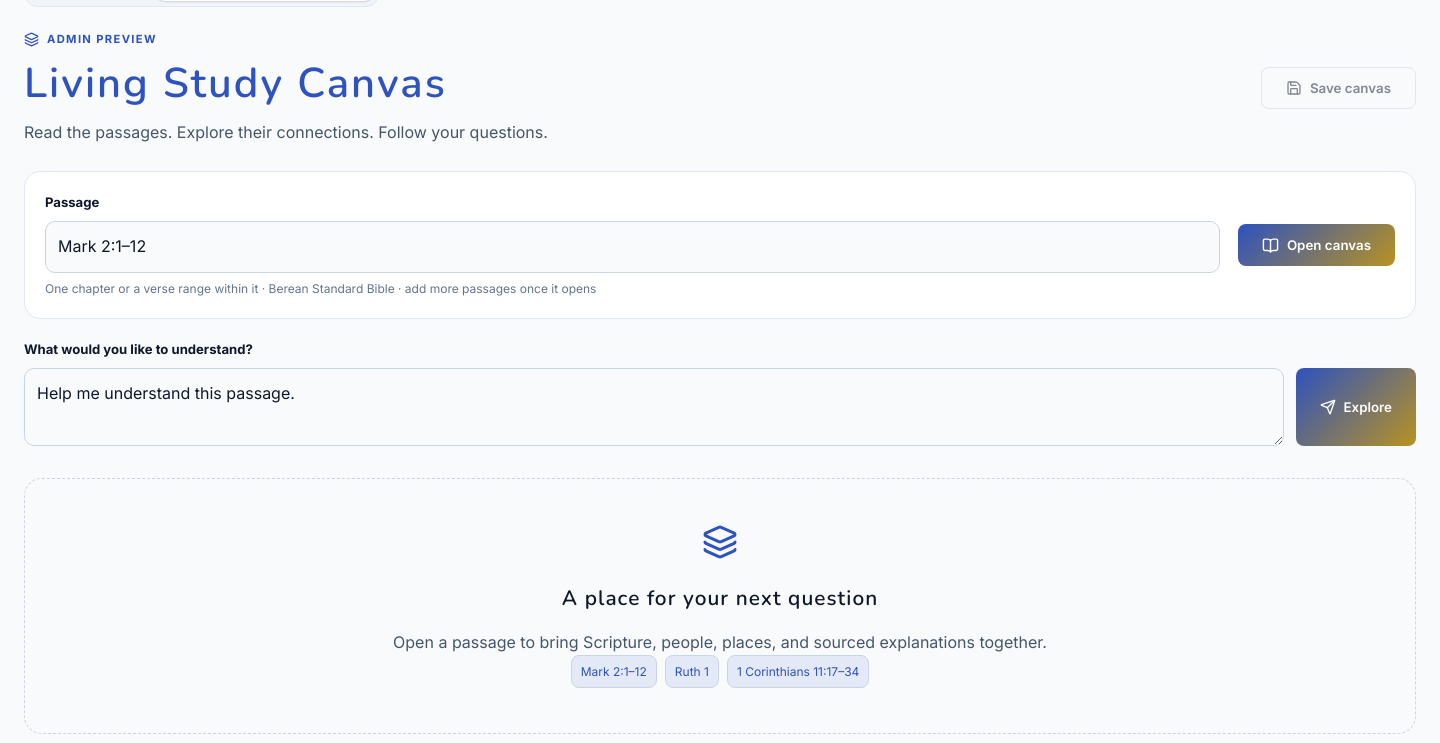
Test: Living Study Canvas › loads sources, links evidence and existing app destinations, and saves/restores a canvas
This screenshot has width=1440, height=743.
Step 1. Click the button "Open canvas" → (1316, 245), box 1238,224 -> 1395,266
(page scrolled)
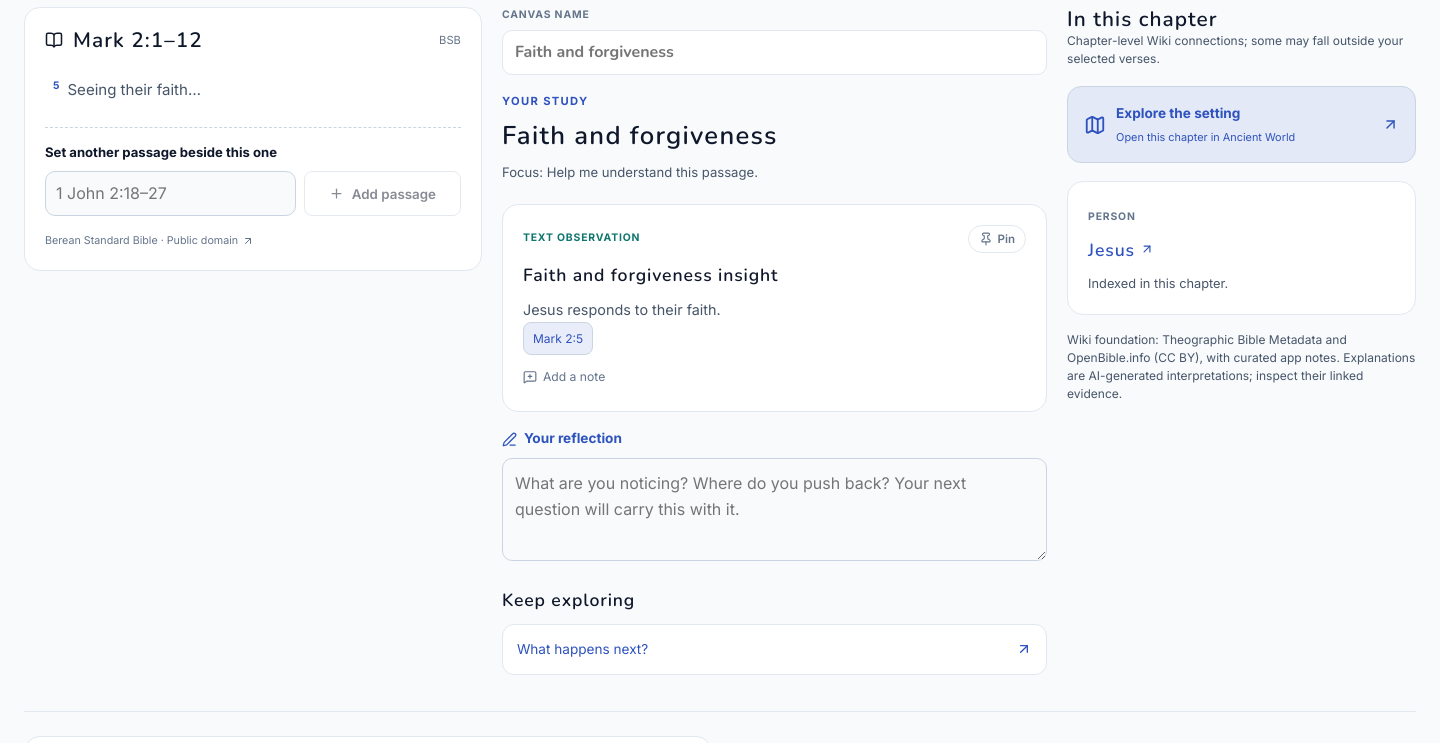
Check: the heading "Faith and forgiveness" is shown, box 502,118 -> 778,153
Step 2. Click the button "Mark 2:5" → (558, 338), box 523,322 -> 593,355
(page scrolled)
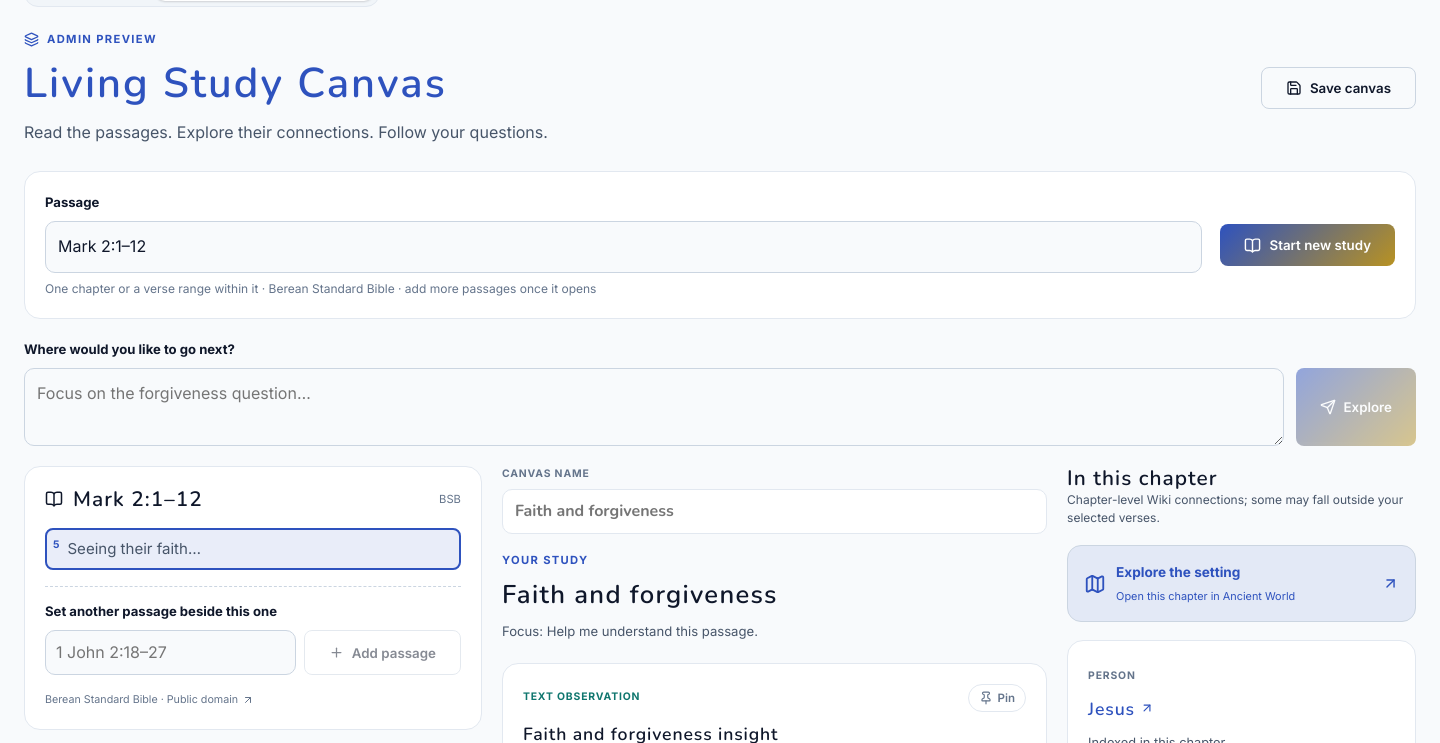
Step 3. Click the button "Save canvas" → (1338, 88), box 1261,67 -> 1416,109
(page scrolled)
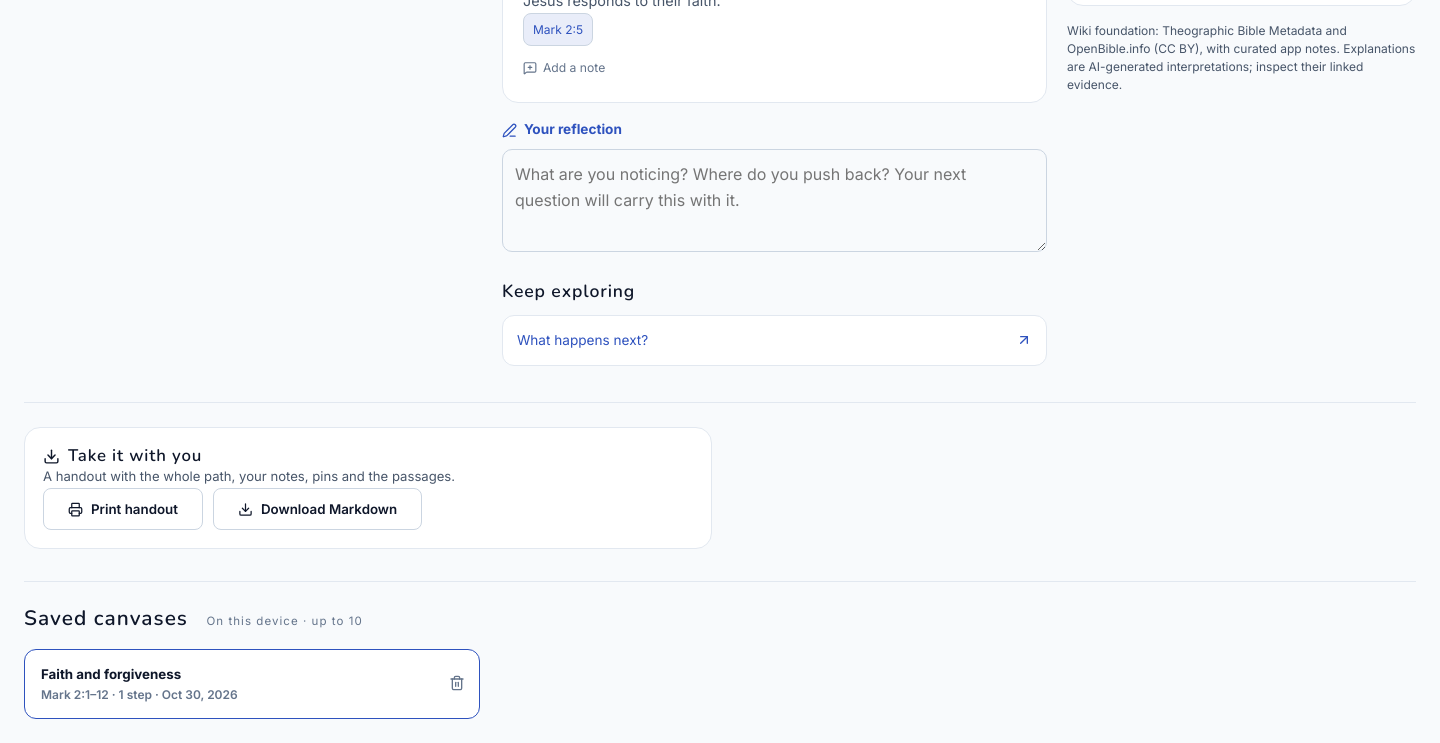
Step 4. Click the button "Faith and forgiveness Mark 2:1–12 · 1 step · Oct 30, 2026" → (230, 684), box 25,650 -> 435,718
(page scrolled)
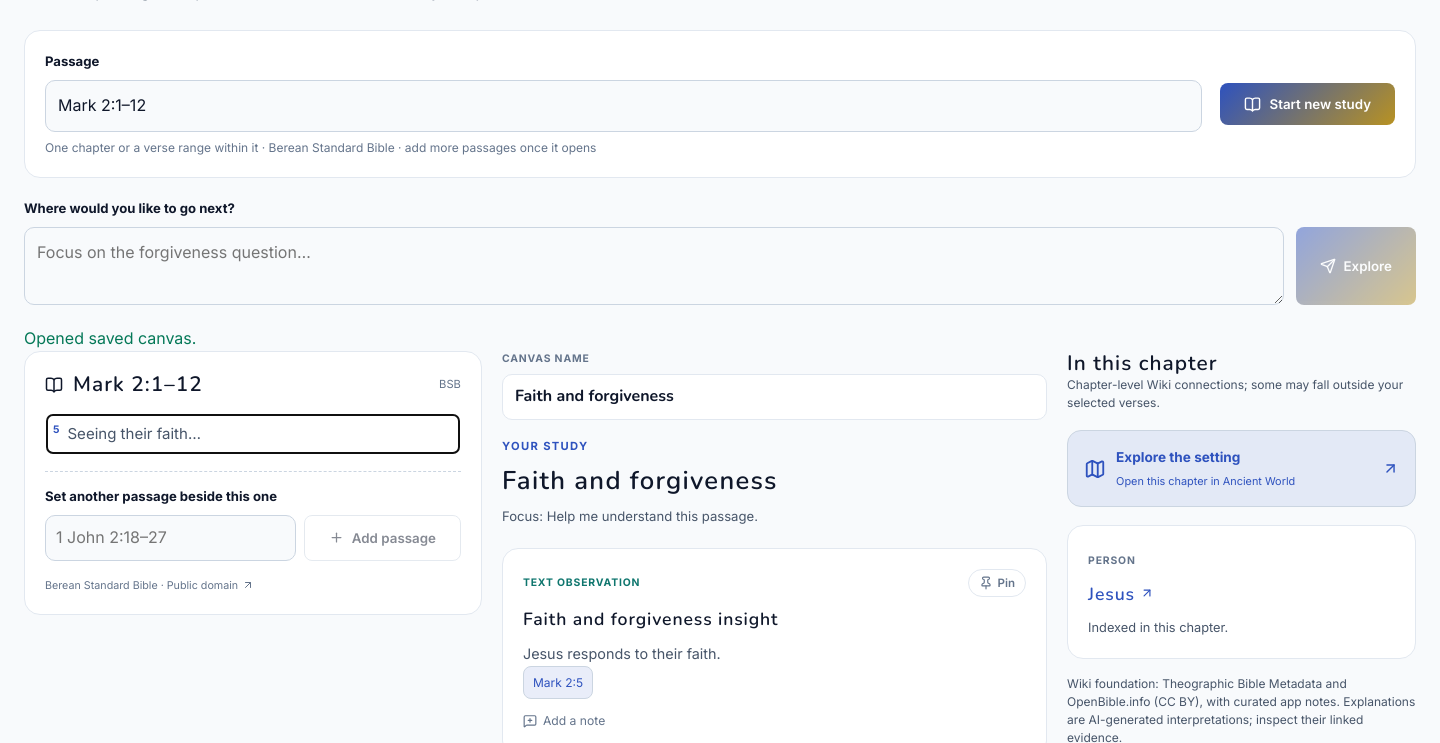
Check: the text "Opened saved canvas." is shown, box 24,328 -> 196,348
